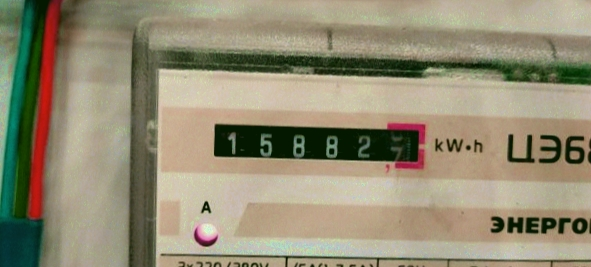1: (223, 126, 238, 155)
2: (354, 131, 371, 159)
5: (255, 129, 274, 156)
7: (386, 142, 403, 160)
8: (288, 130, 305, 159), (322, 130, 338, 159)
screen: (198, 105, 435, 177)
